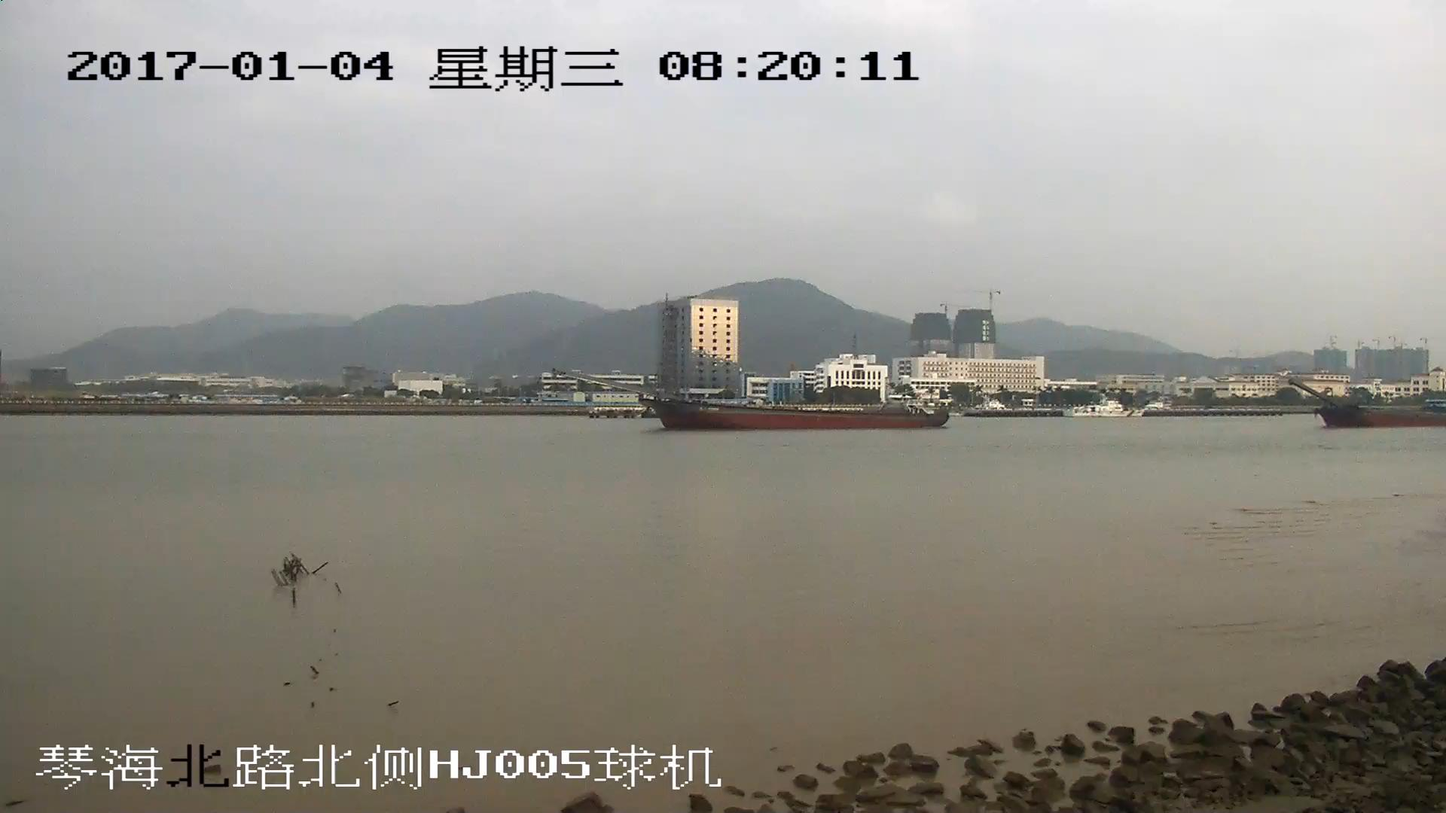bulk cargo carrier: (556, 368, 946, 428), (1292, 379, 1445, 428)
